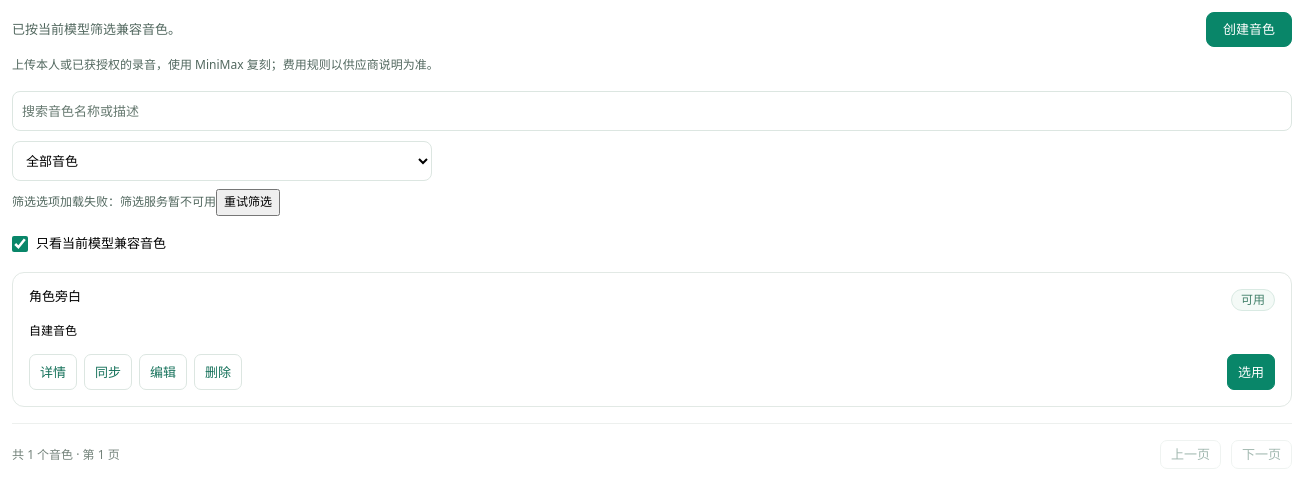
Test case: 公共音色库业务交互 › 筛选接口失败仍能查询音色，独立重试后恢复真实选项
Expected: the message shows "筛选选项加载失败：筛选服务暂不可用", left=12, top=189, right=280, bottom=216
Expected: the button "选用" is enabled, left=1227, top=354, right=1275, bottom=390
What coordinates should you click on to do the following:
click the button "重试筛选"
I would click on:
 (248, 202)
Its box is left=216, top=189, right=280, bottom=216.
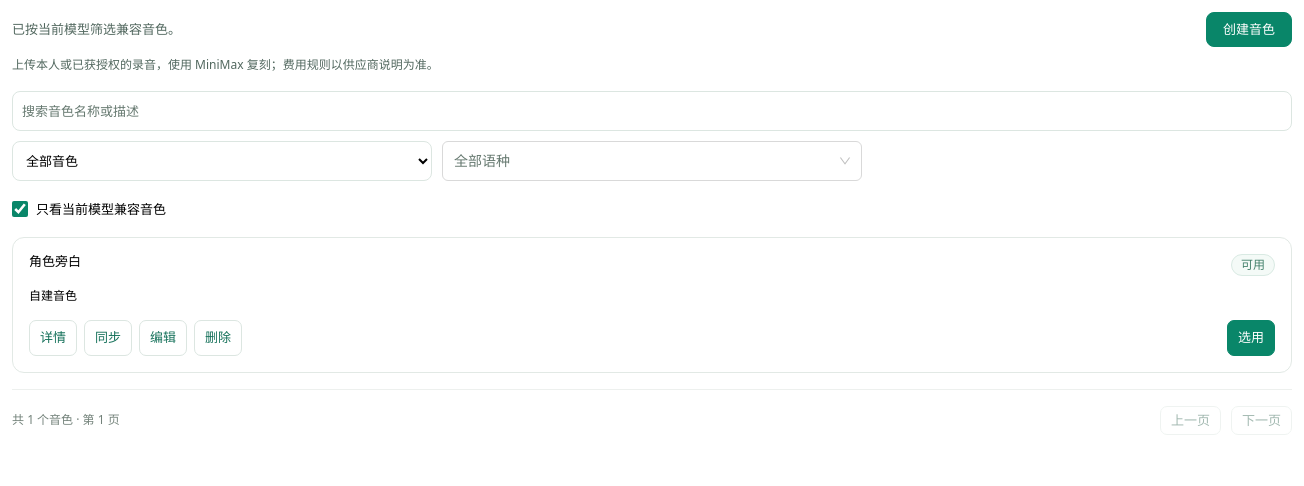
Result: the dropdown named "音色语种" is enabled at left=454, top=146, right=832, bottom=176
Result: the message "筛选选项加载失败：筛选服务暂不可用 重试筛选" is gone
